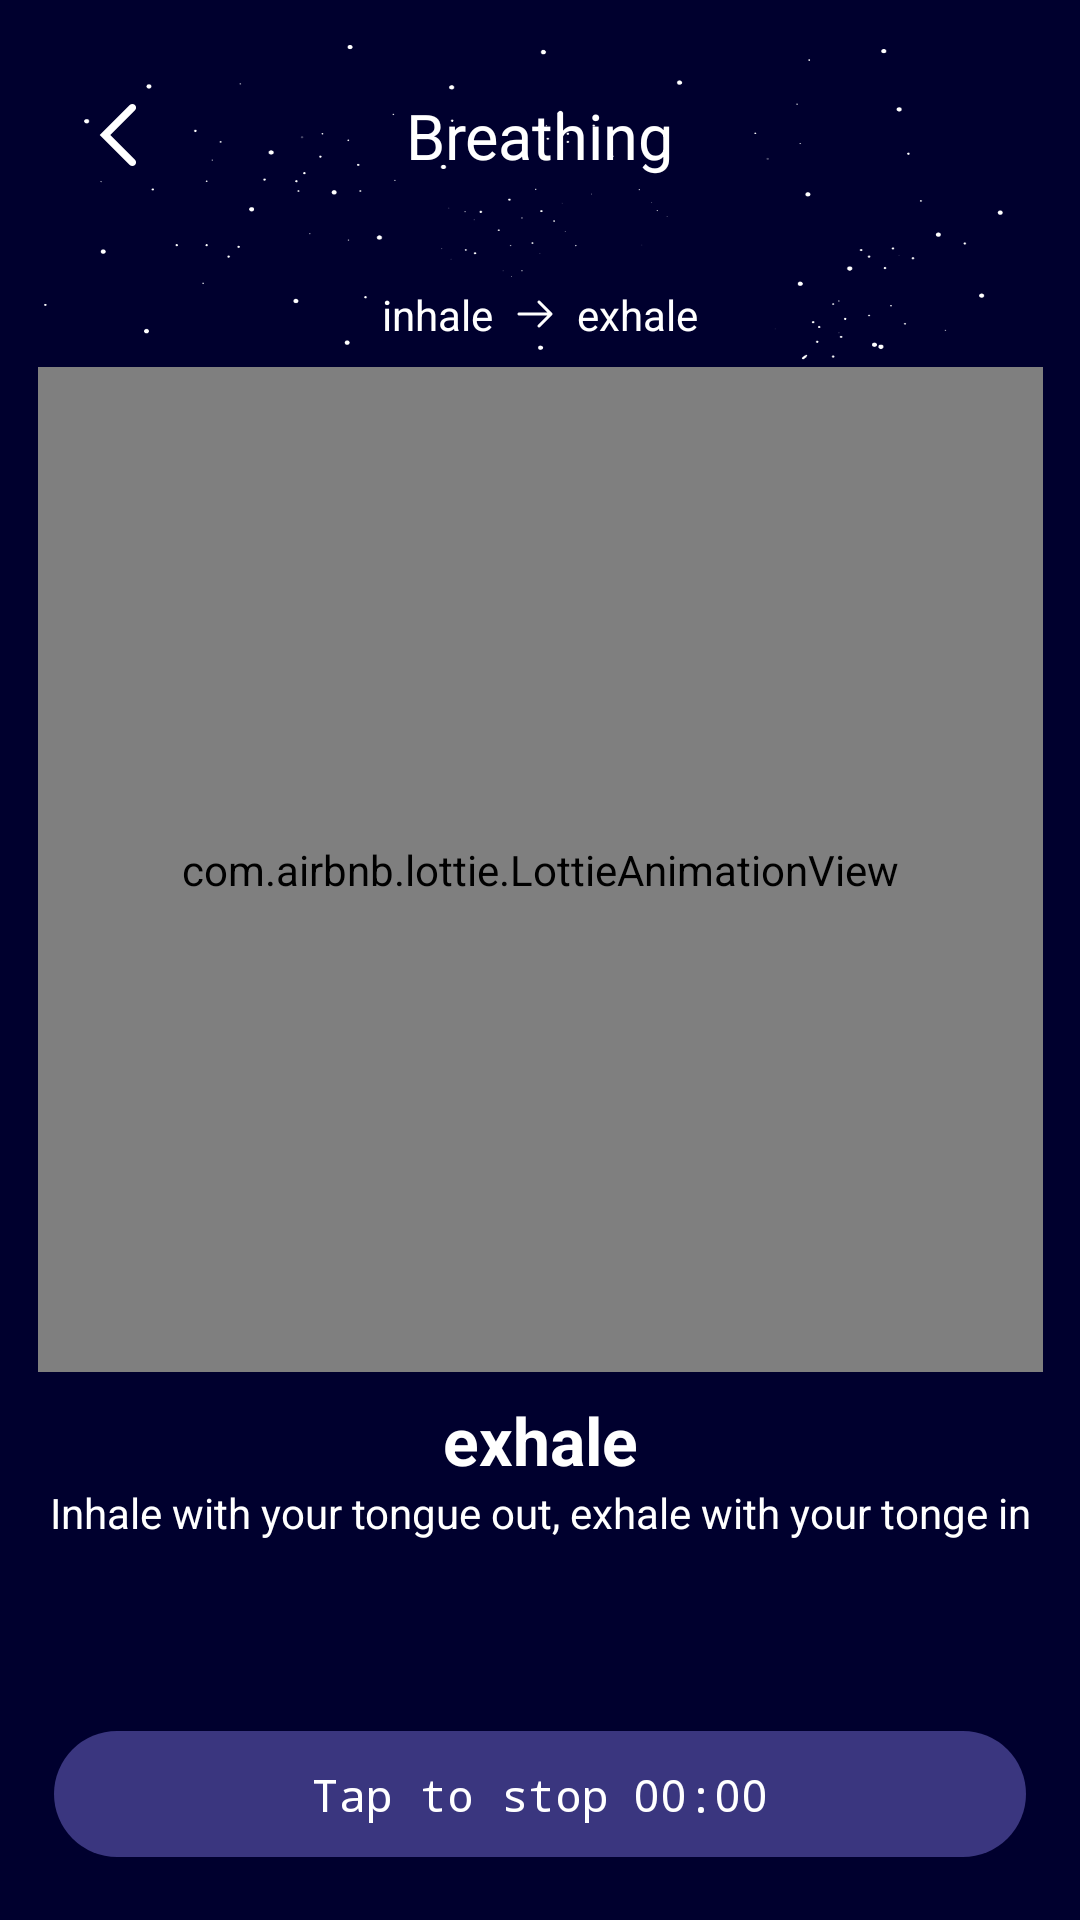

Icon click points for this 1080*1920 phone screenshot, format point (x, y):
arrow left: point (110, 135)
breath arrow right: point (535, 314)
